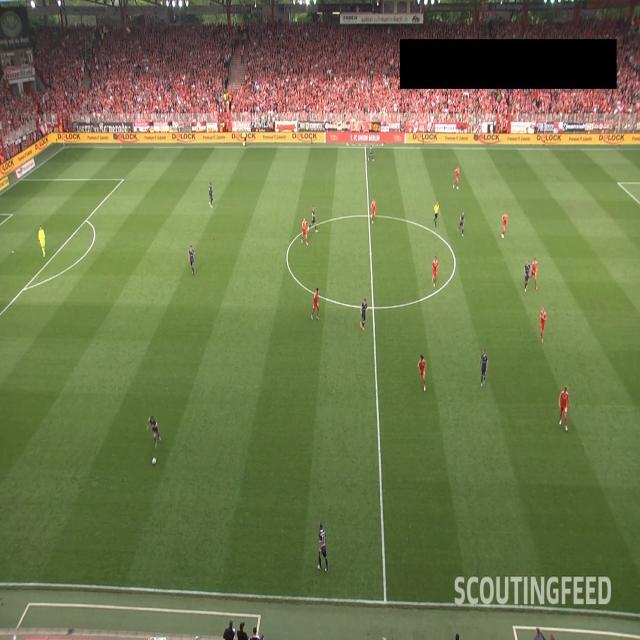ball: (151, 456, 157, 466)
